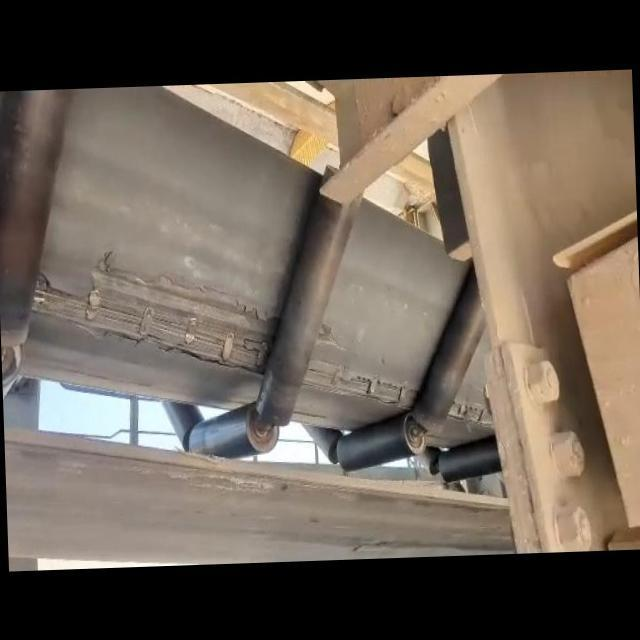Tear: (28, 248, 284, 380), (304, 320, 422, 414)
